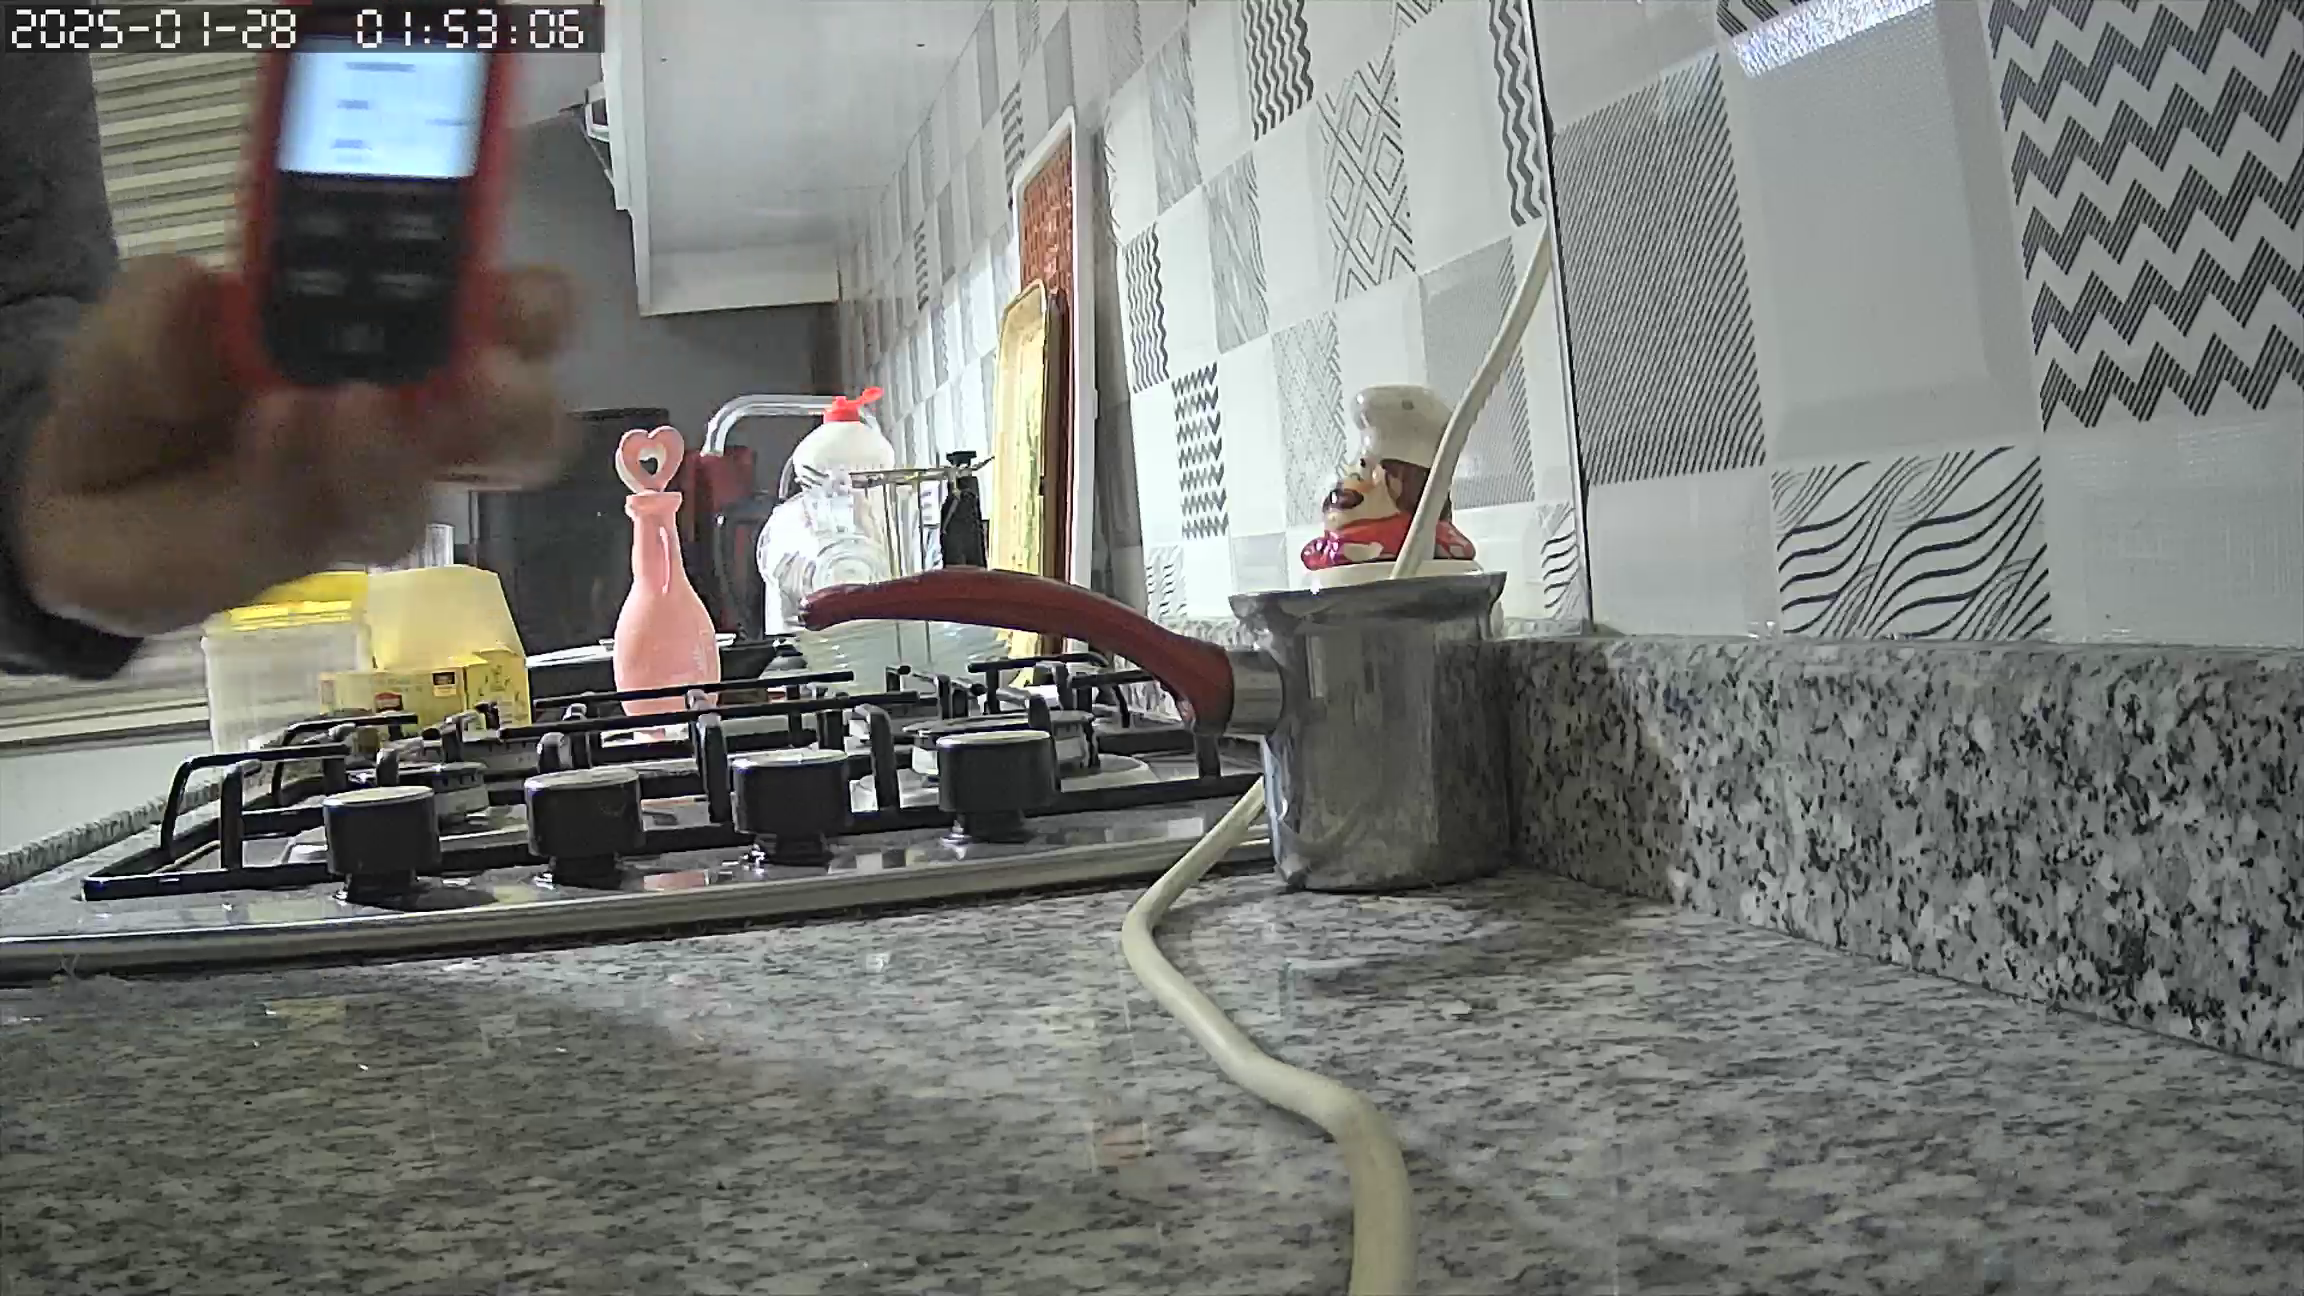screen: (274, 33, 494, 169)
